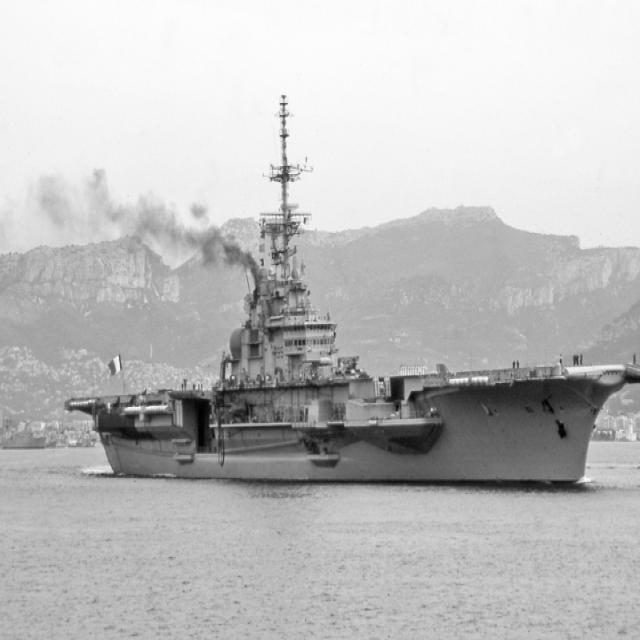Portanaves: (62, 87, 640, 494)
